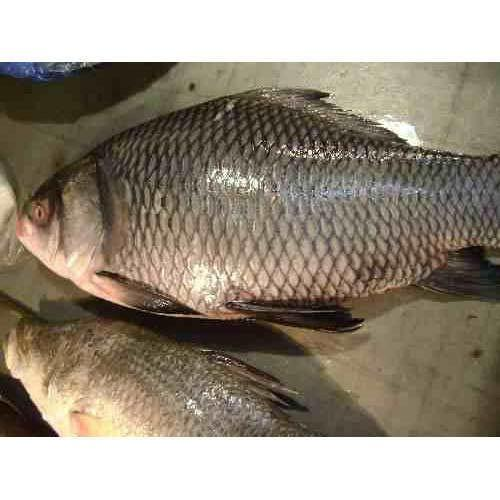Indian Carp: (17, 85, 500, 332)
